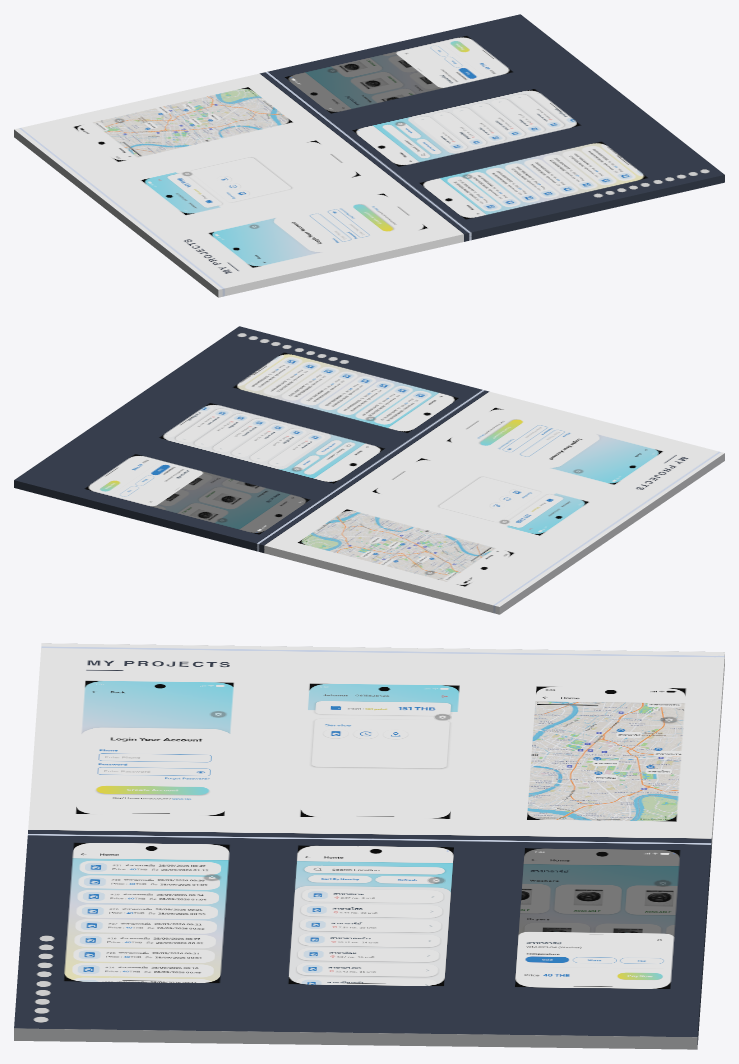
File: port3.glb
3 views of the same model, one above another, from view 1: azimuth 30°, elevation 25°; view 2: azimuth 150°, elevation 25°; view 3: azimuth 270°, elevation 25° (orthographic). The views are drawn at different scales.
Visible parts, largest first — view 1: Plane.011; view 2: Plane.011; view 3: Plane.011.
Part boxes in pixels (left/top/right/bottom): Plane.011: left=14, top=14, right=724, bottom=297; Plane.011: left=14, top=326, right=724, bottom=614; Plane.011: left=14, top=643, right=724, bottom=1049.
Size of the model in its own units: 2.04 by 0.03 by 1.56.
Materials: 1 (1 with a texture image).
